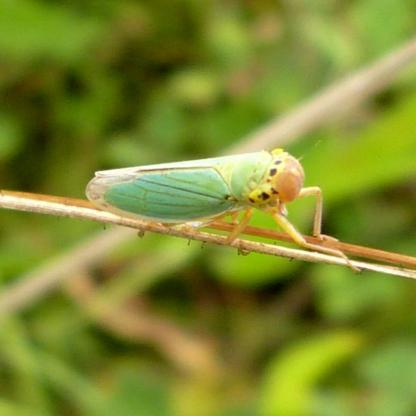Green-Leafhopper: (84, 141, 357, 264)
